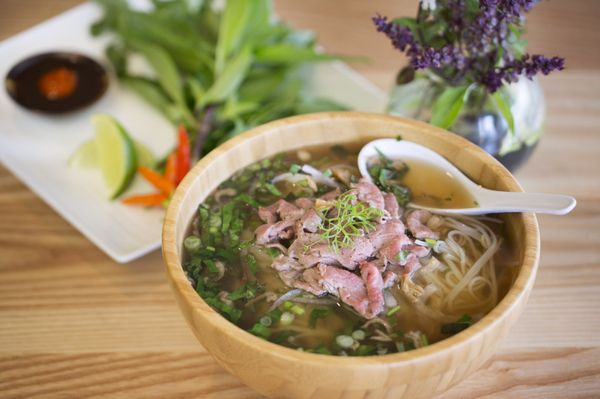curry: (86, 1, 377, 176)
sushi: (161, 112, 559, 395)
